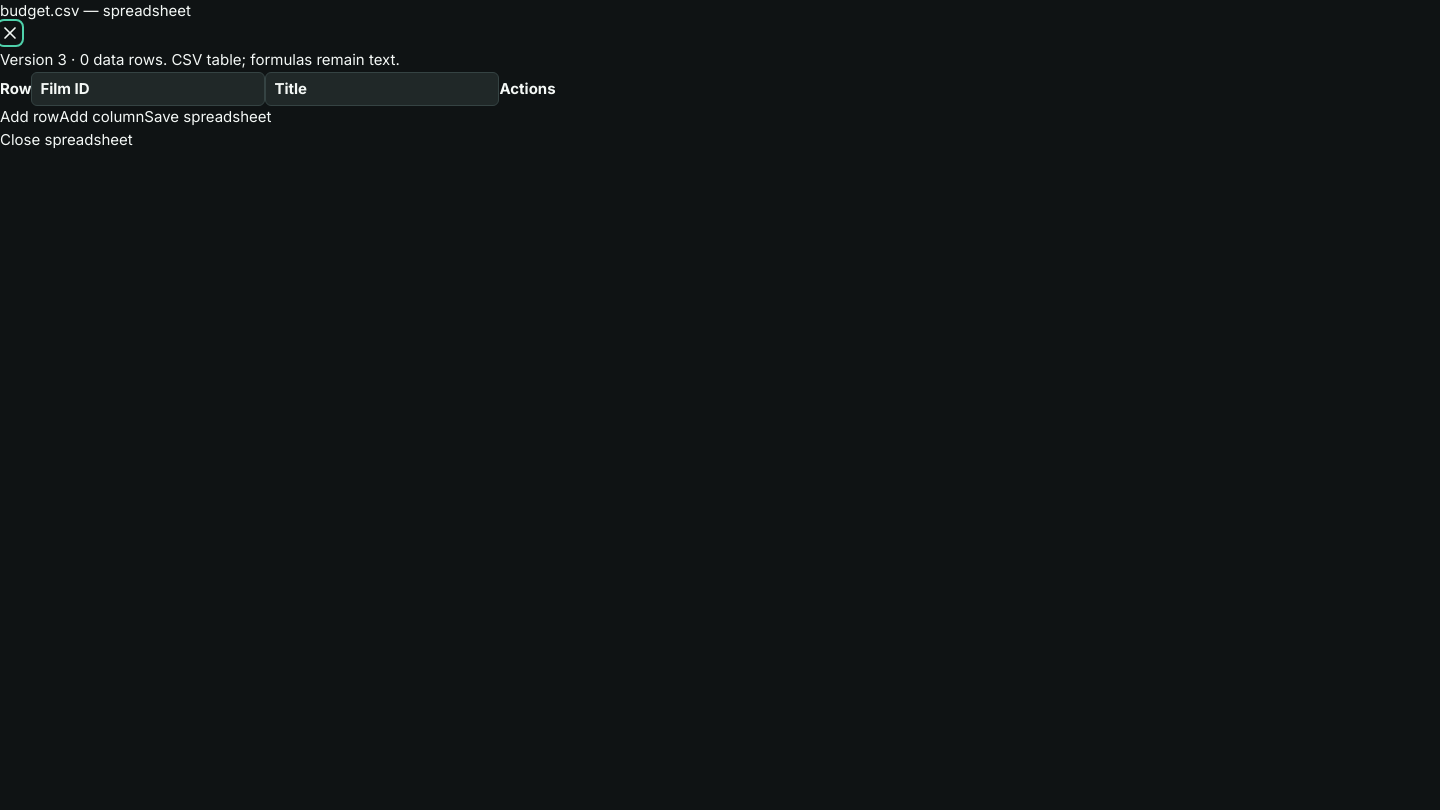
saves an added row, reports the saved version and updates the caller
Click the button "Add row". click: point(30, 117)
box: [0, 106, 59, 128]
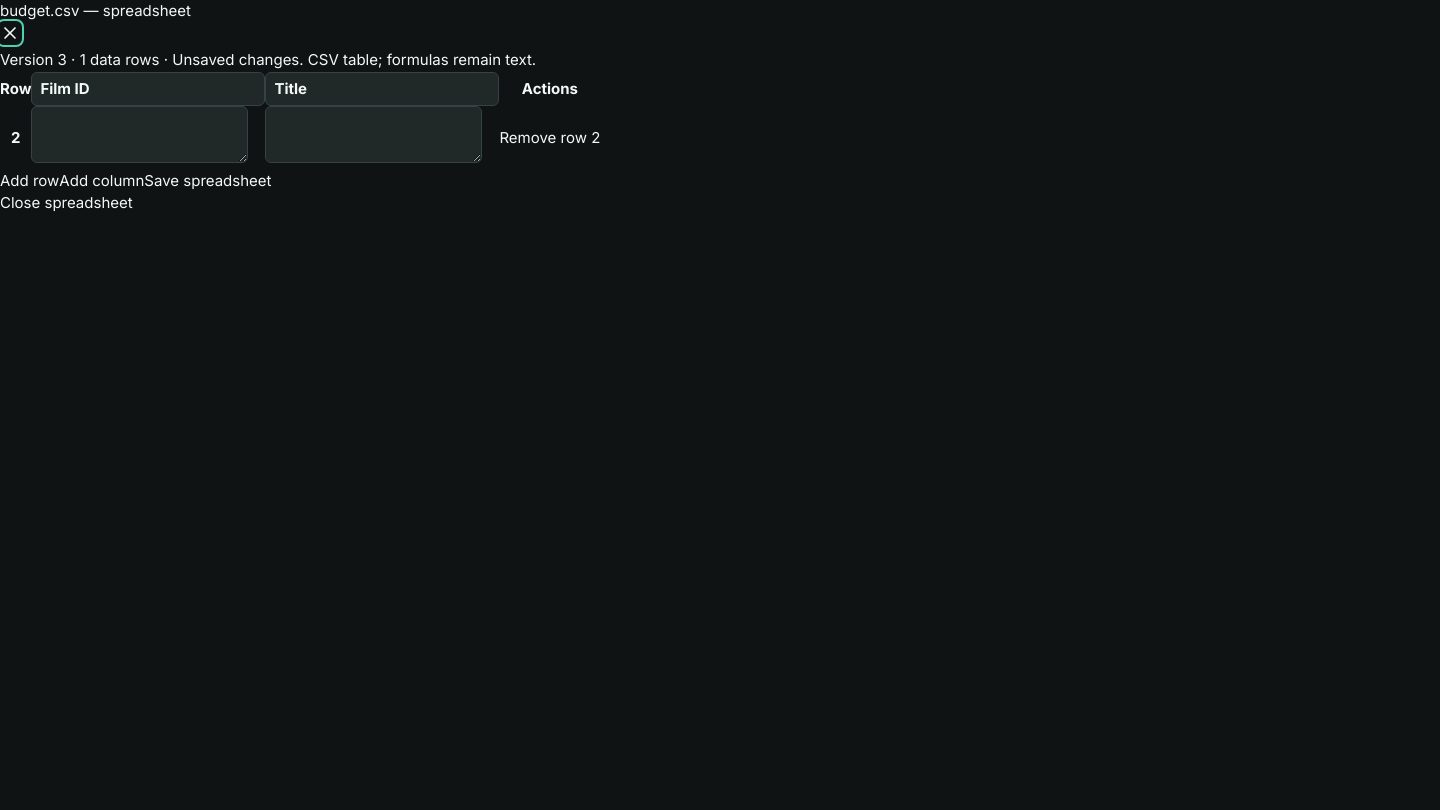
Type "FILM-0001" into the text box named "Row 2, Film ID". click: point(140, 134)
box: [31, 106, 248, 163]
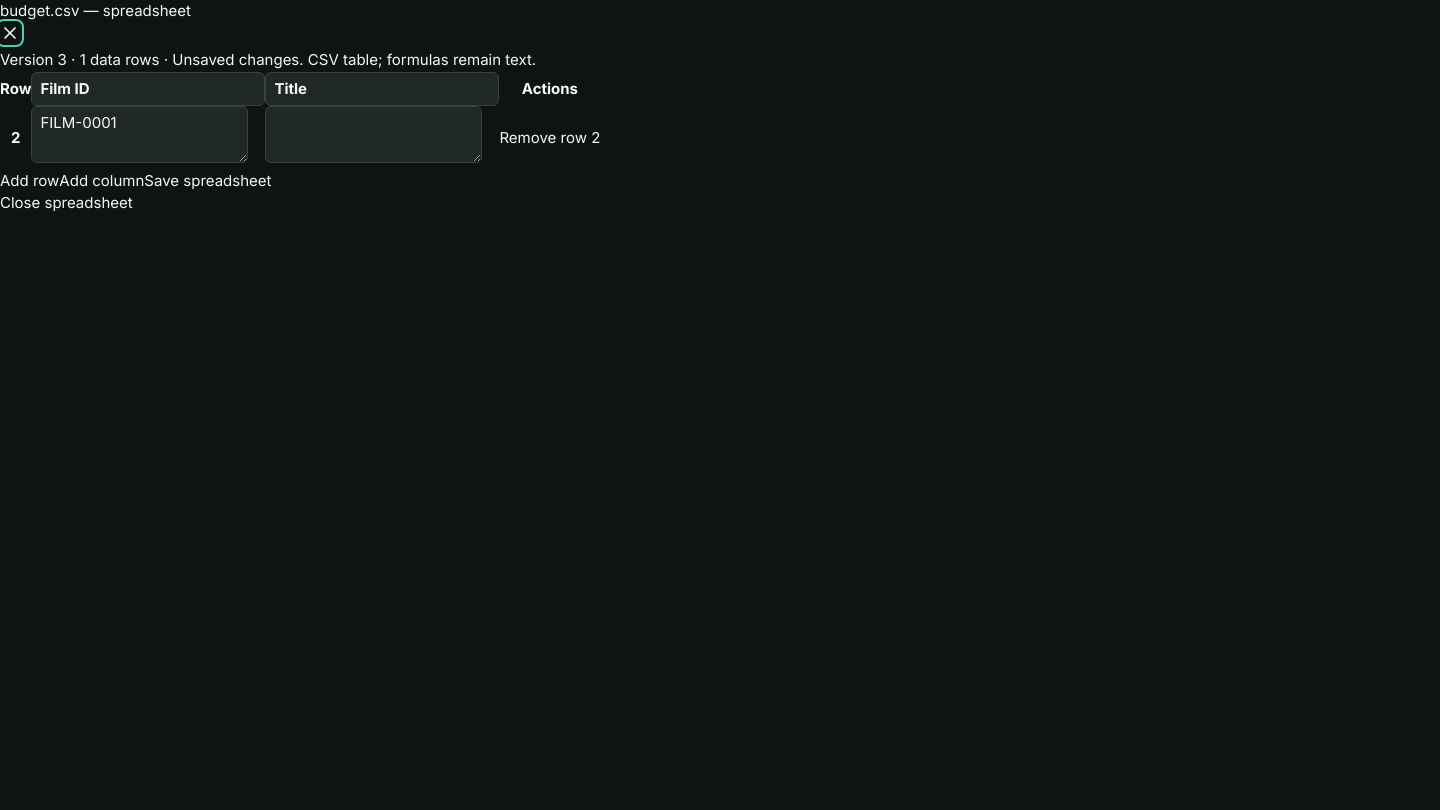
Type "A, Film" into the text box named "Row 2, Title". click: point(374, 134)
box: [265, 106, 482, 163]
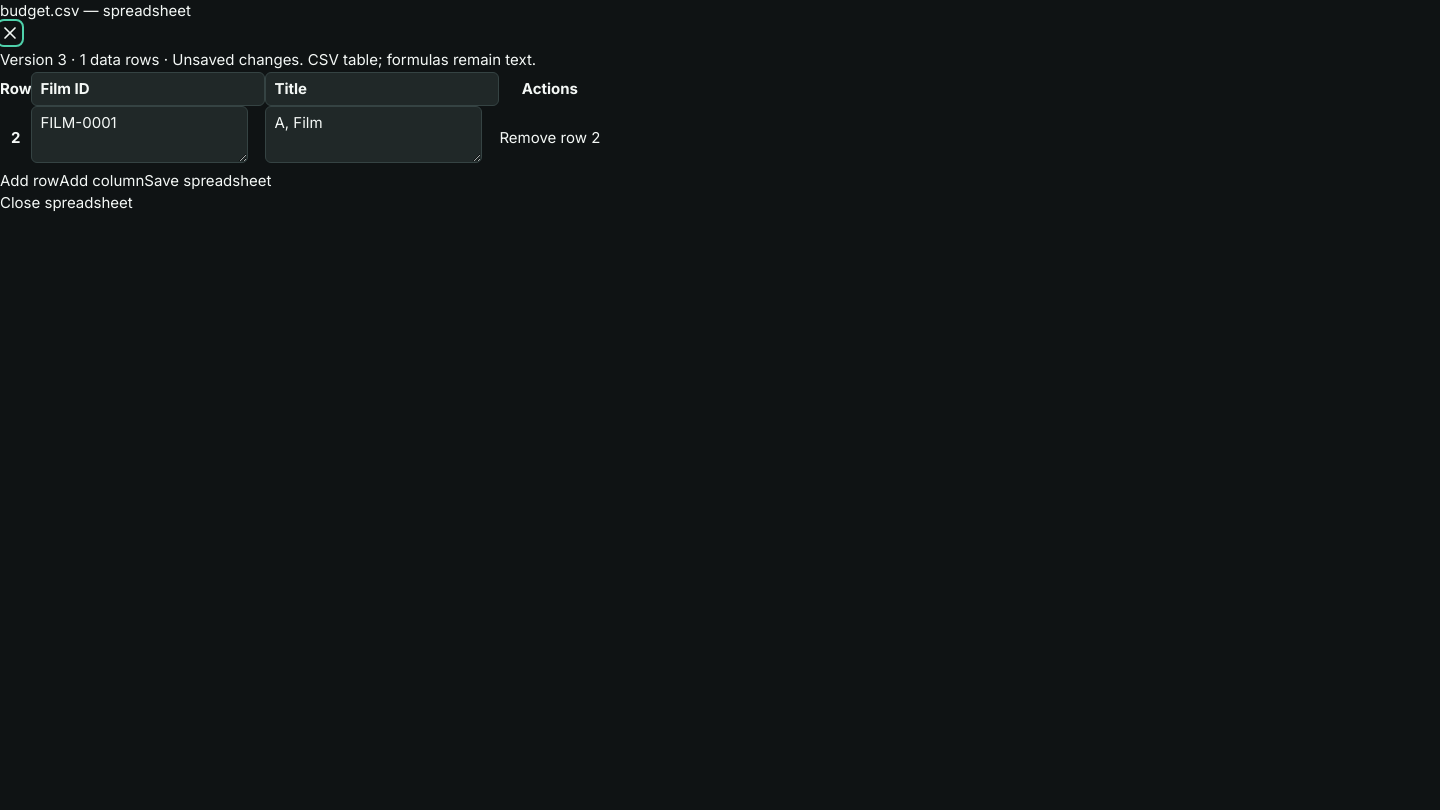
Click the button "Save spreadsheet". click: point(208, 181)
box: [144, 170, 272, 192]
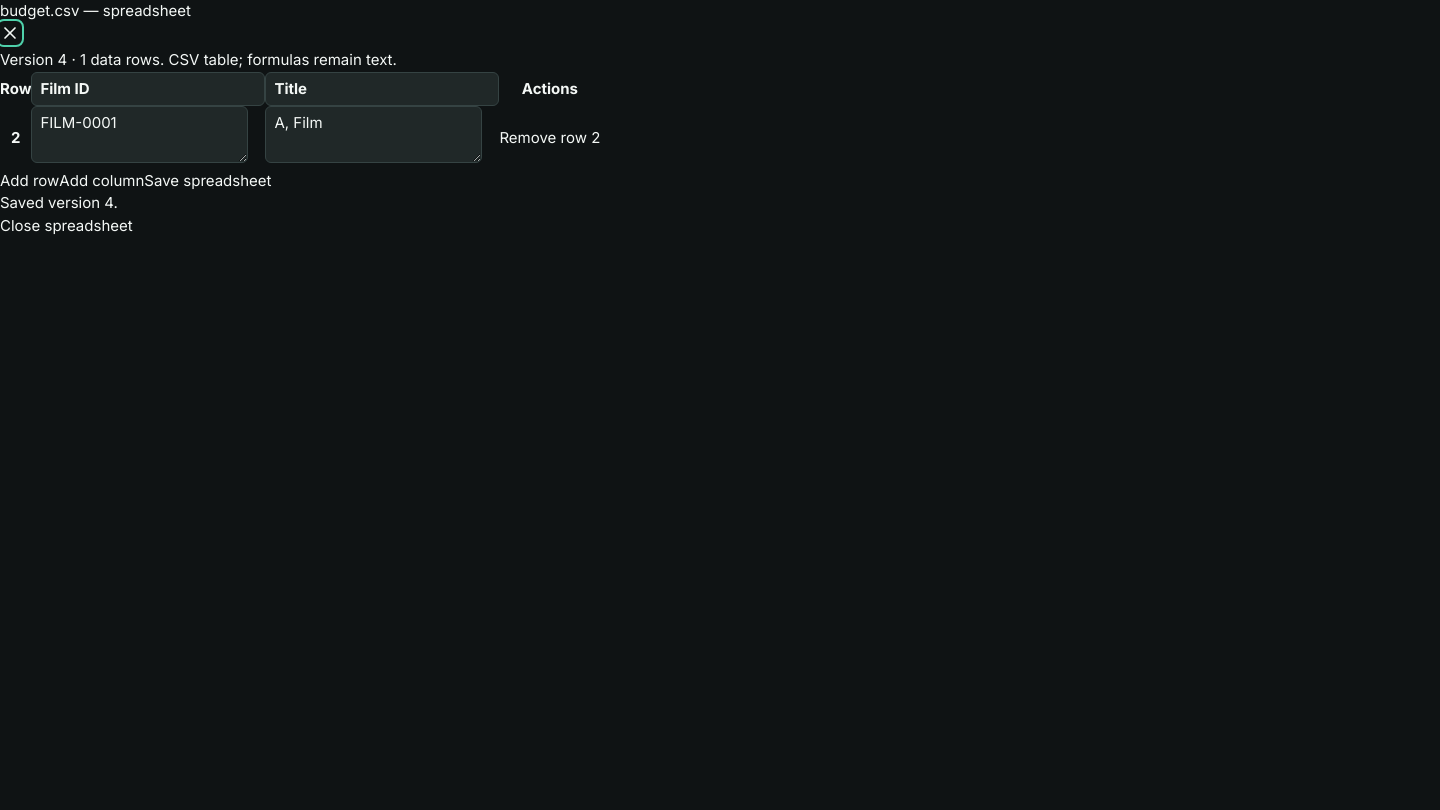
Result: the message shows "Saved version 4" at [0, 193, 118, 212]
